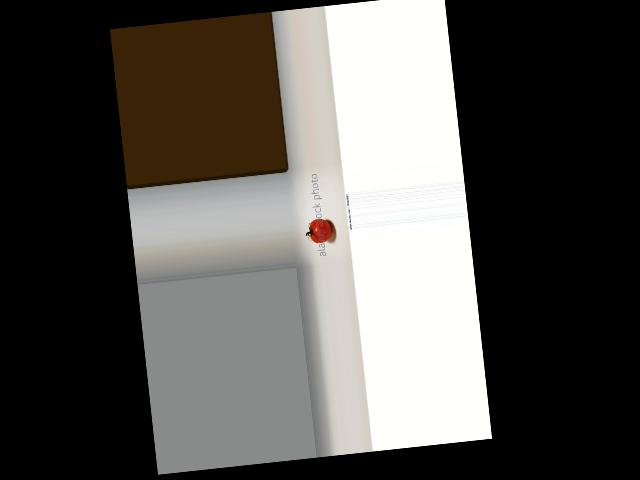tomato: (308, 217, 332, 243)
